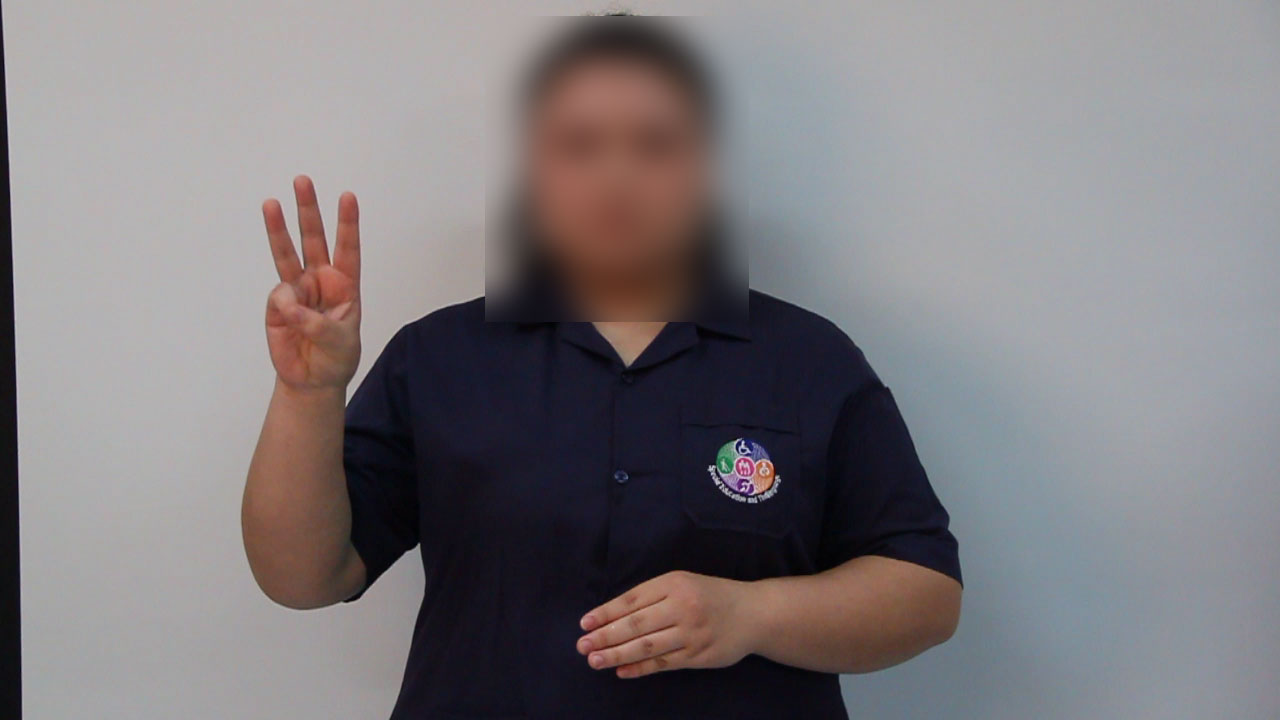wor: (247, 166, 374, 404)
